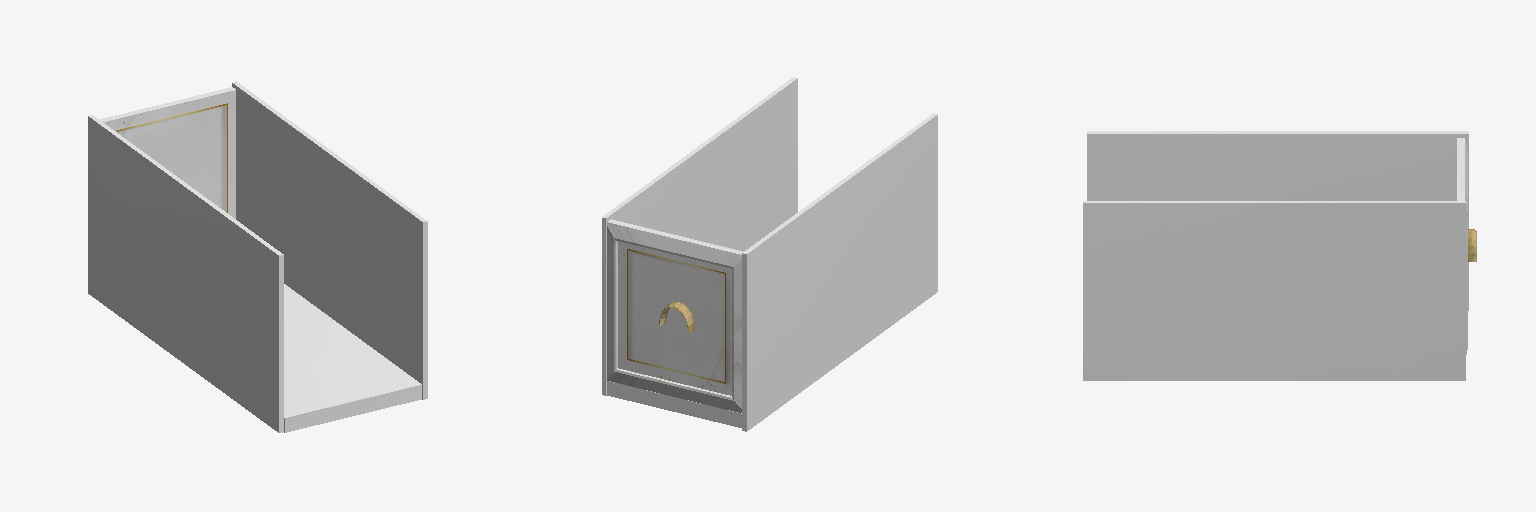
3 renders of one model, left to right at view 1: azimuth 30°, elevation 25°; view 2: azimuth 150°, elevation 25°; view 3: azimuth 270°, elevation 25°, orthographic.
Parts seen in each view (by area): view 1: CajonDer3:polySurface2; view 2: CajonDer3:polySurface2; view 3: CajonDer3:polySurface2.
Boxes of the visible parts, x1=… form: CajonDer3:polySurface2: x1=88, y1=81, x2=427, y2=432; CajonDer3:polySurface2: x1=602, y1=77, x2=937, y2=431; CajonDer3:polySurface2: x1=1083, y1=131, x2=1476, y2=380.
Bounding box in the file's own units: 1.51 × 1.74 × 3.5.
2 materials, 2 textured.